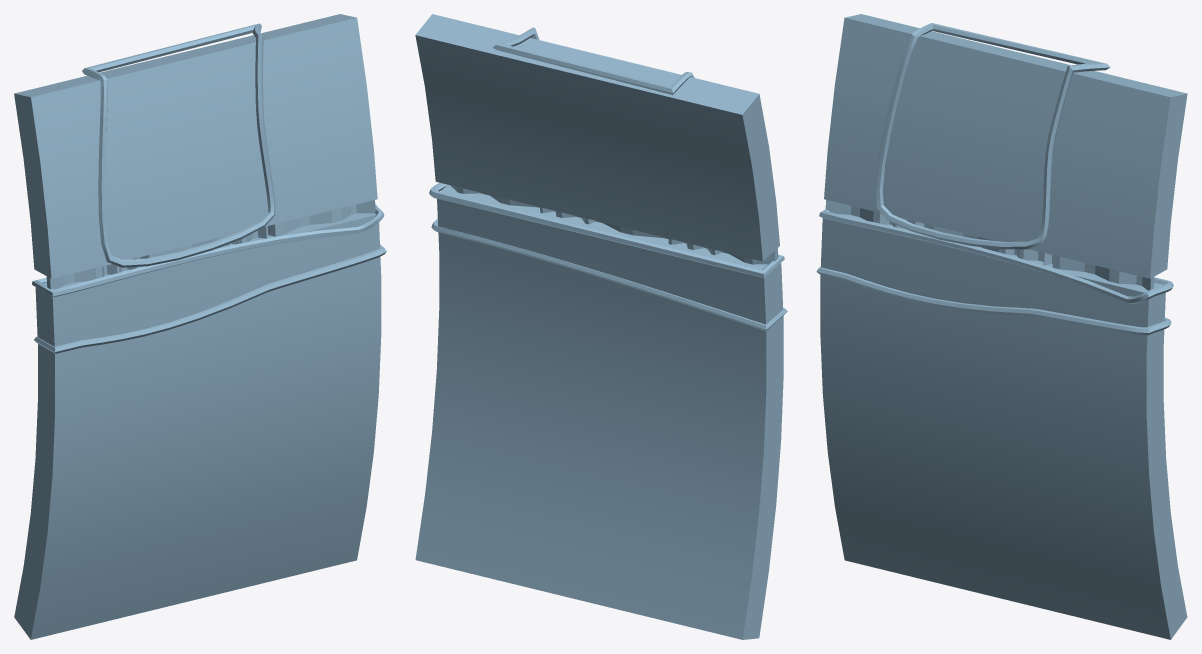
Rendered from SM_Mur_Courbe_2.fbx.
The picture shows the model from 3 angles, left to right: view 1: azimuth 30°, elevation 25°; view 2: azimuth 150°, elevation 25°; view 3: azimuth 330°, elevation 25°; orthographic projection.
Parts seen in each view (by area): view 1: Box005; view 2: Box005; view 3: Box005.
Boxes of the visible parts, x1,y1,x2,y2 form: Box005: (14,14,386,639); Box005: (415,14,787,639); Box005: (816,14,1187,639).
Bounding box in the file's own units: 156 × 243 × 36.24.
